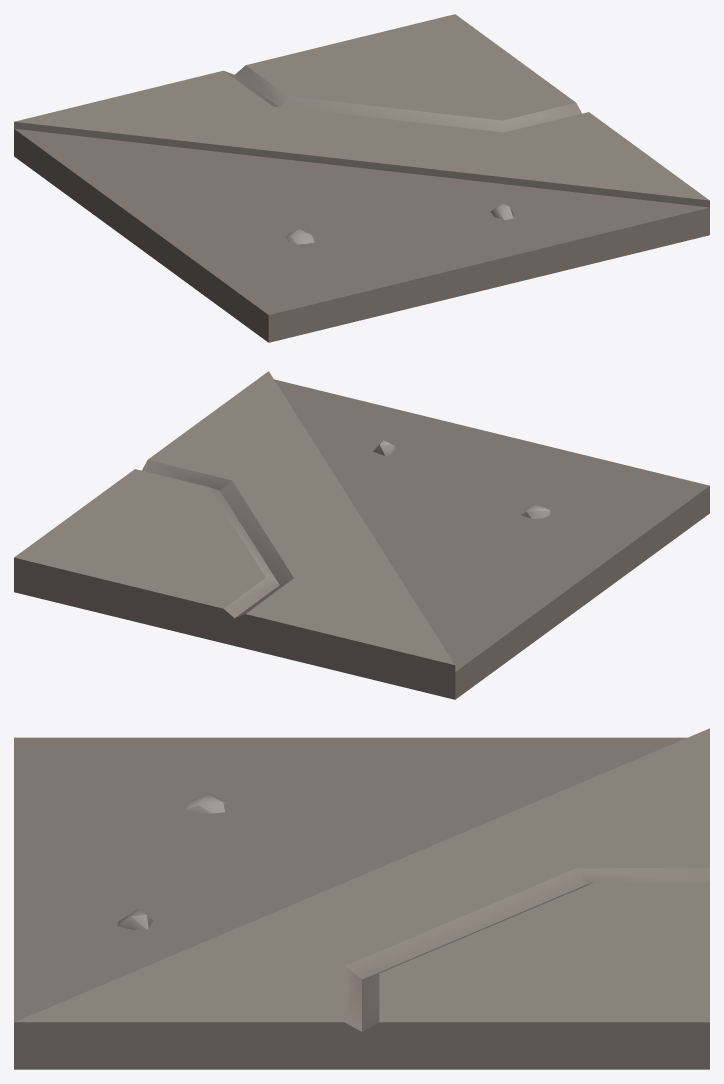
The model's file is floor_dirt_small_corner.gltf.
The picture shows the model from 3 angles, top to bottom: view 1: azimuth 30°, elevation 25°; view 2: azimuth 150°, elevation 25°; view 3: azimuth 270°, elevation 25°; orthographic projection. The views are drawn at different scales.
Parts seen in each view (by area): view 1: floor_dirt_small_corner; view 2: floor_dirt_small_corner; view 3: floor_dirt_small_corner.
Part boxes in pixels (<box>): floor_dirt_small_corner: <box>14,14,709,342</box>; floor_dirt_small_corner: <box>14,371,709,699</box>; floor_dirt_small_corner: <box>14,728,709,1069</box>.
Bounding box in the file's own units: 2 × 0.1538 × 2.
Materials: 1 (1 with a texture image).
